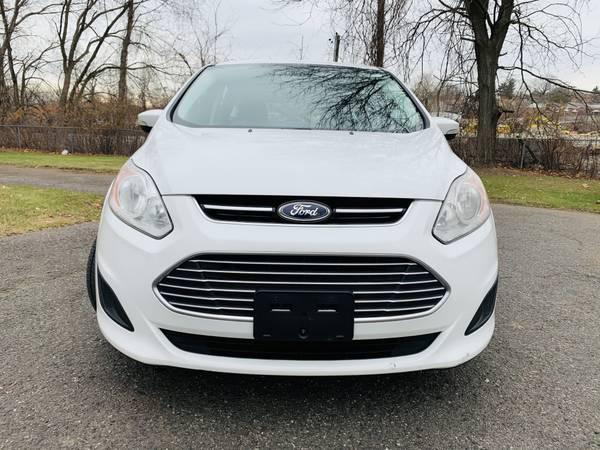Front_Bumper: (91, 195, 494, 369)
Front_Windshield: (161, 64, 428, 133)
Grille: (154, 253, 454, 373)
Hood: (131, 117, 462, 199)
Left_Headlight: (432, 166, 489, 244)
Left_Mirror: (431, 115, 460, 140)
Right_Headlight: (106, 163, 176, 241)
Right_Mirror: (136, 111, 163, 132)
